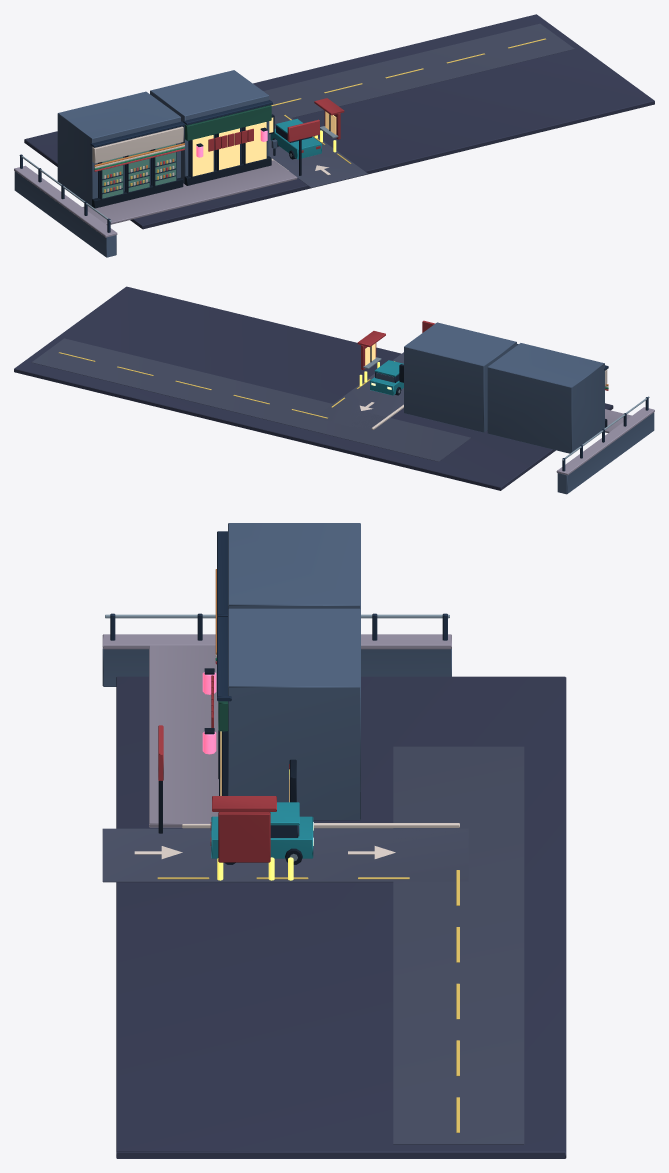
Rendered from restaurant_row.glb.
3 renders of one model, top to bottom at view 1: azimuth 30°, elevation 25°; view 2: azimuth 150°, elevation 25°; view 3: azimuth 270°, elevation 25°, orthographic. The views are drawn at different scales.
Visible parts, largest first — view 1: restaurant_row; view 2: restaurant_row; view 3: restaurant_row.
Part boxes in pixels (x1=…): restaurant_row: x1=14, y1=14, x2=654, y2=257; restaurant_row: x1=14, y1=286, x2=654, y2=494; restaurant_row: x1=102, y1=523, x2=566, y2=1158.
Bounding box in the file's own units: 36.14 × 5.66 × 13.8.
